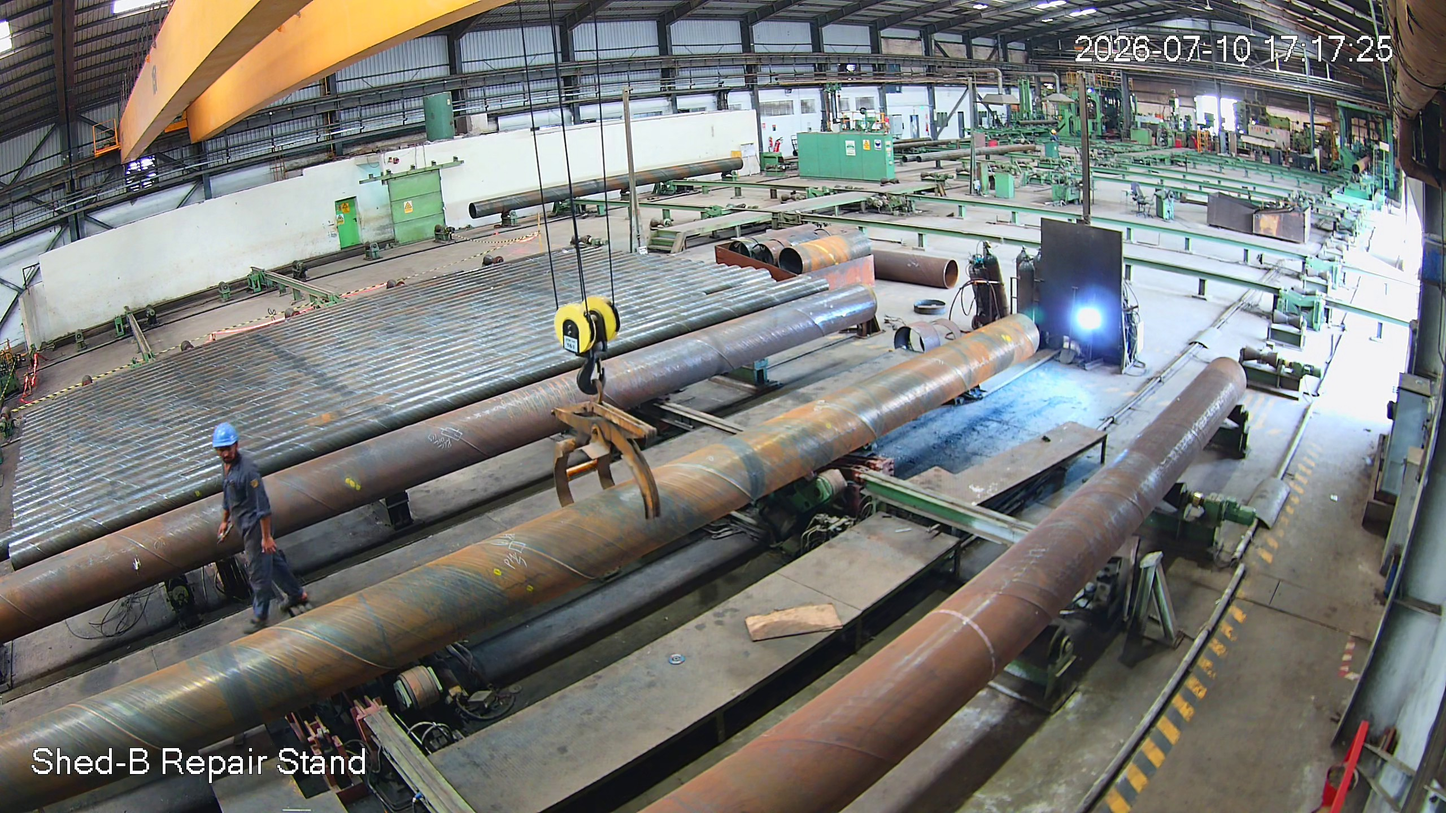Helmet: (207, 423, 263, 490)
Person: (199, 425, 317, 628)
